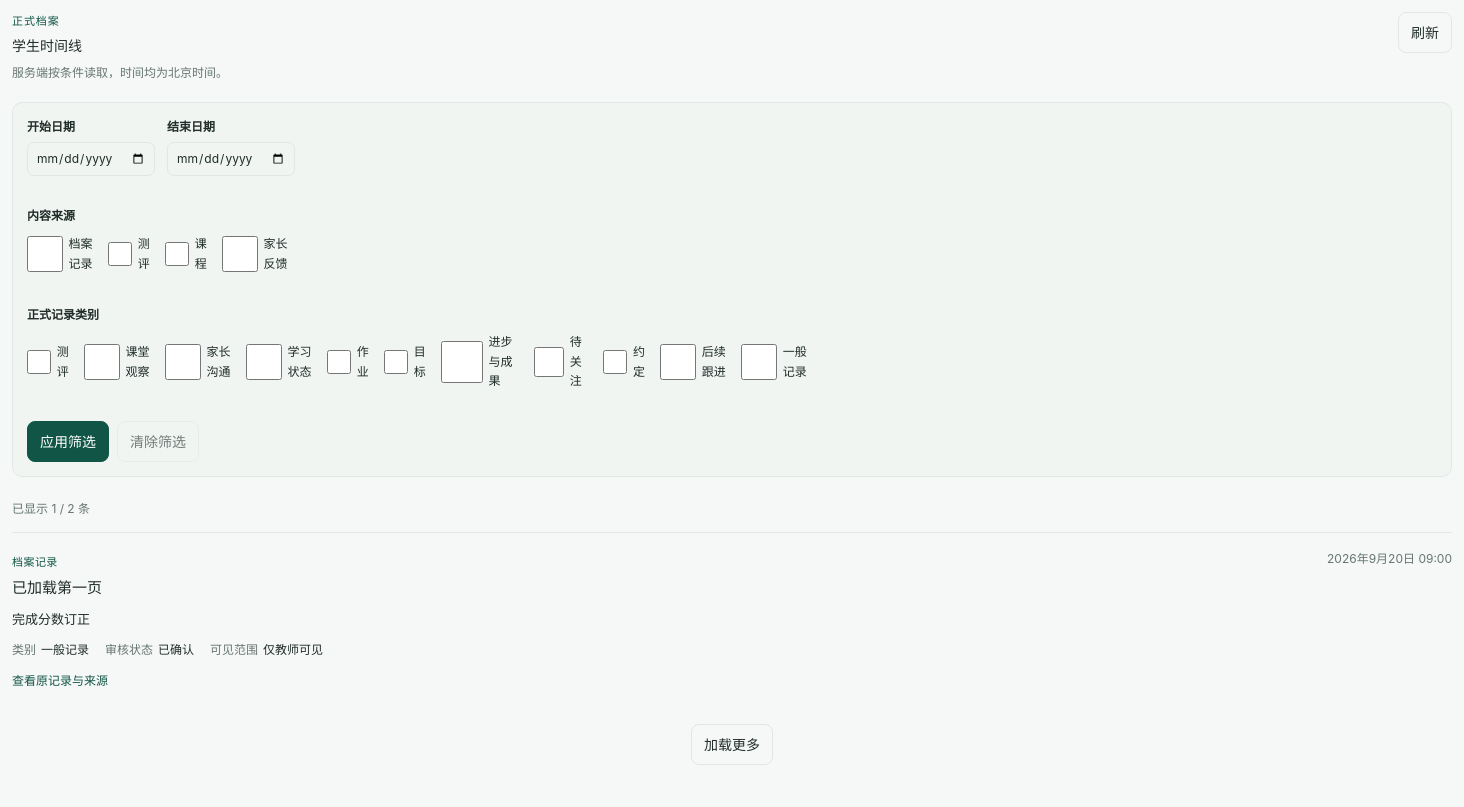
Test: StudentTimelineReadback › retries a failed next page without dropping or duplicating earlier entries
The image size is (1464, 807).
Check: the heading "已加载第一页" is shown, box left=12, top=576, right=102, bottom=600
Click the button "加载更多". click: (732, 744)
box: left=691, top=724, right=773, bottom=765
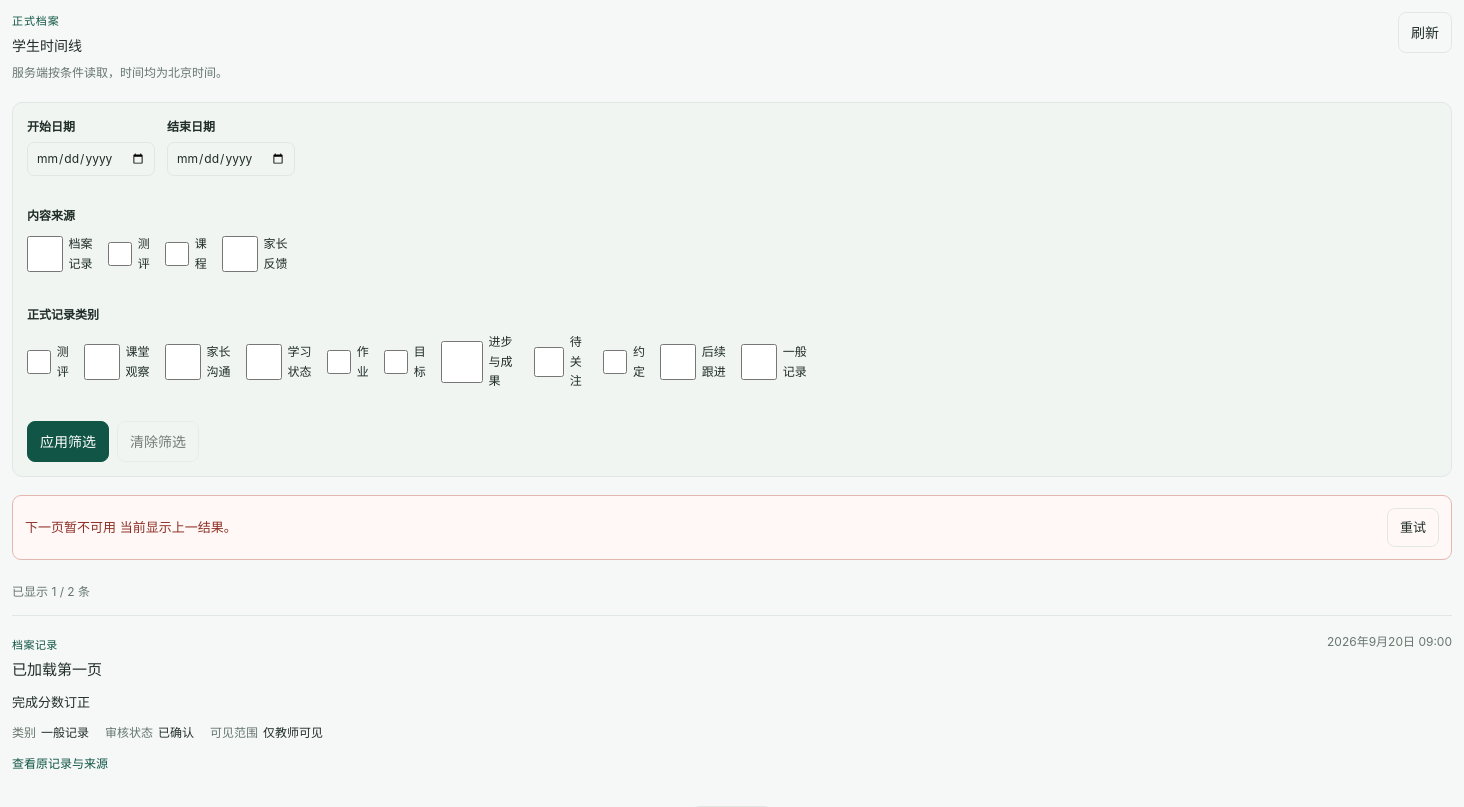
Check: the message "下一页暂不可用 当前显示上一结果。 重试" is shown, box left=12, top=495, right=1452, bottom=560
Click the button "重试". click: (1413, 528)
box: left=1387, top=508, right=1439, bottom=547
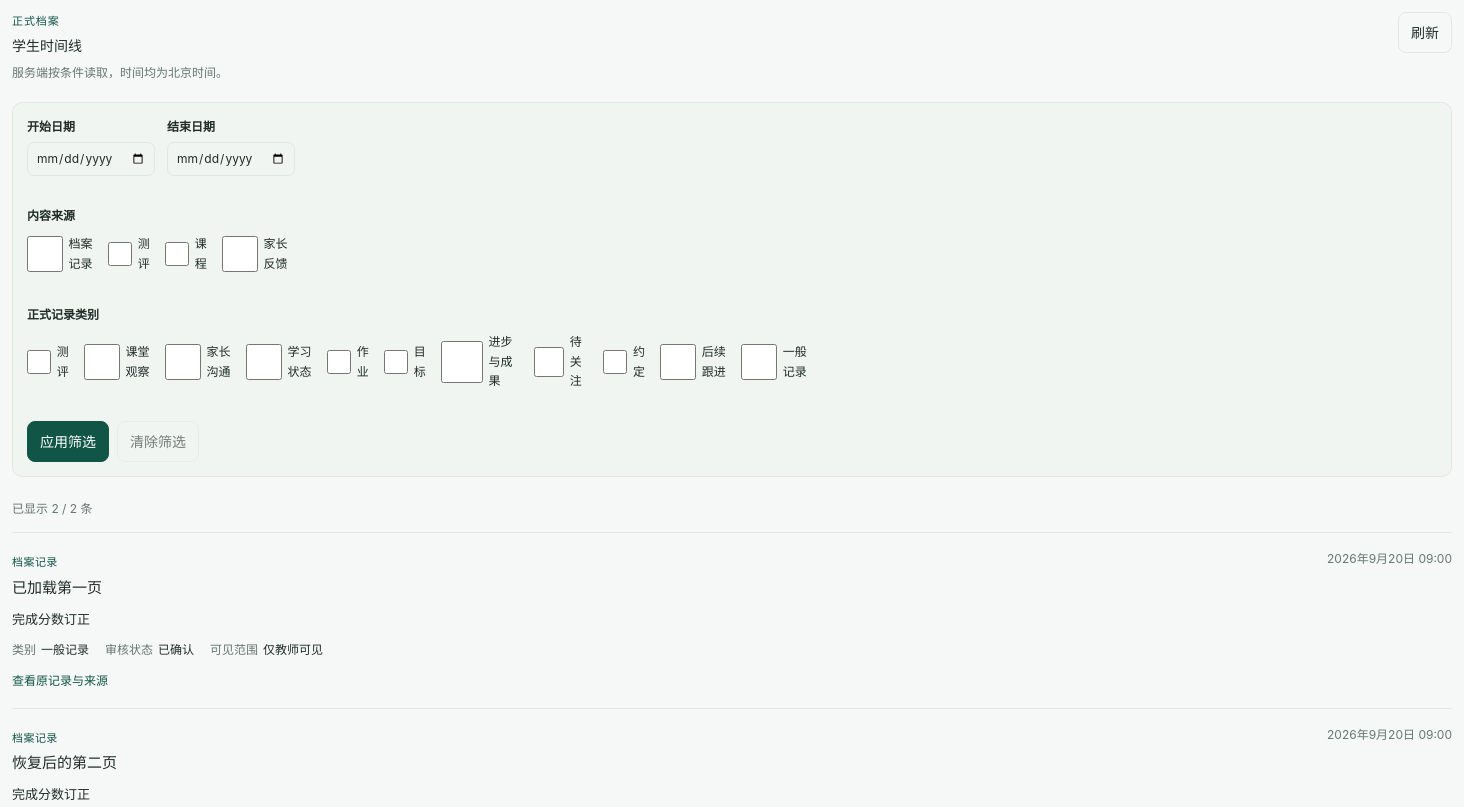
Check: the heading "已加载第一页" is shown, box left=12, top=576, right=102, bottom=600
Check: the heading "恢复后的第二页" is shown, box left=12, top=751, right=117, bottom=775
